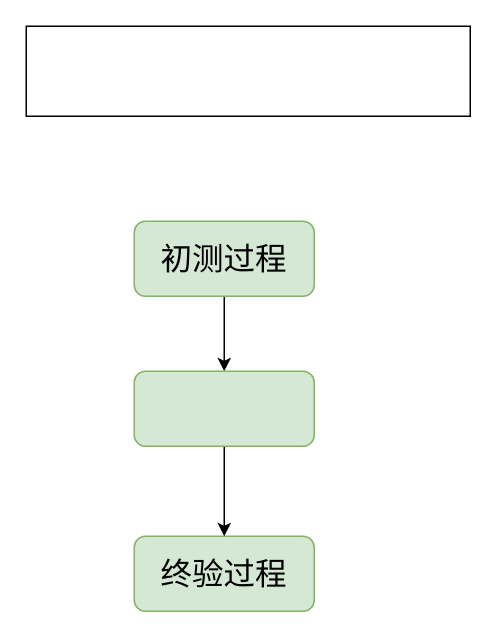
Some shapes in this 497 by 638 pixel diagram are drawn without their labels. The centre of each missing label's shape, as x and y in pixels:
"测试方案流程图" belongs at point (247, 70).
"试运行过程" belongs at point (223, 408).
